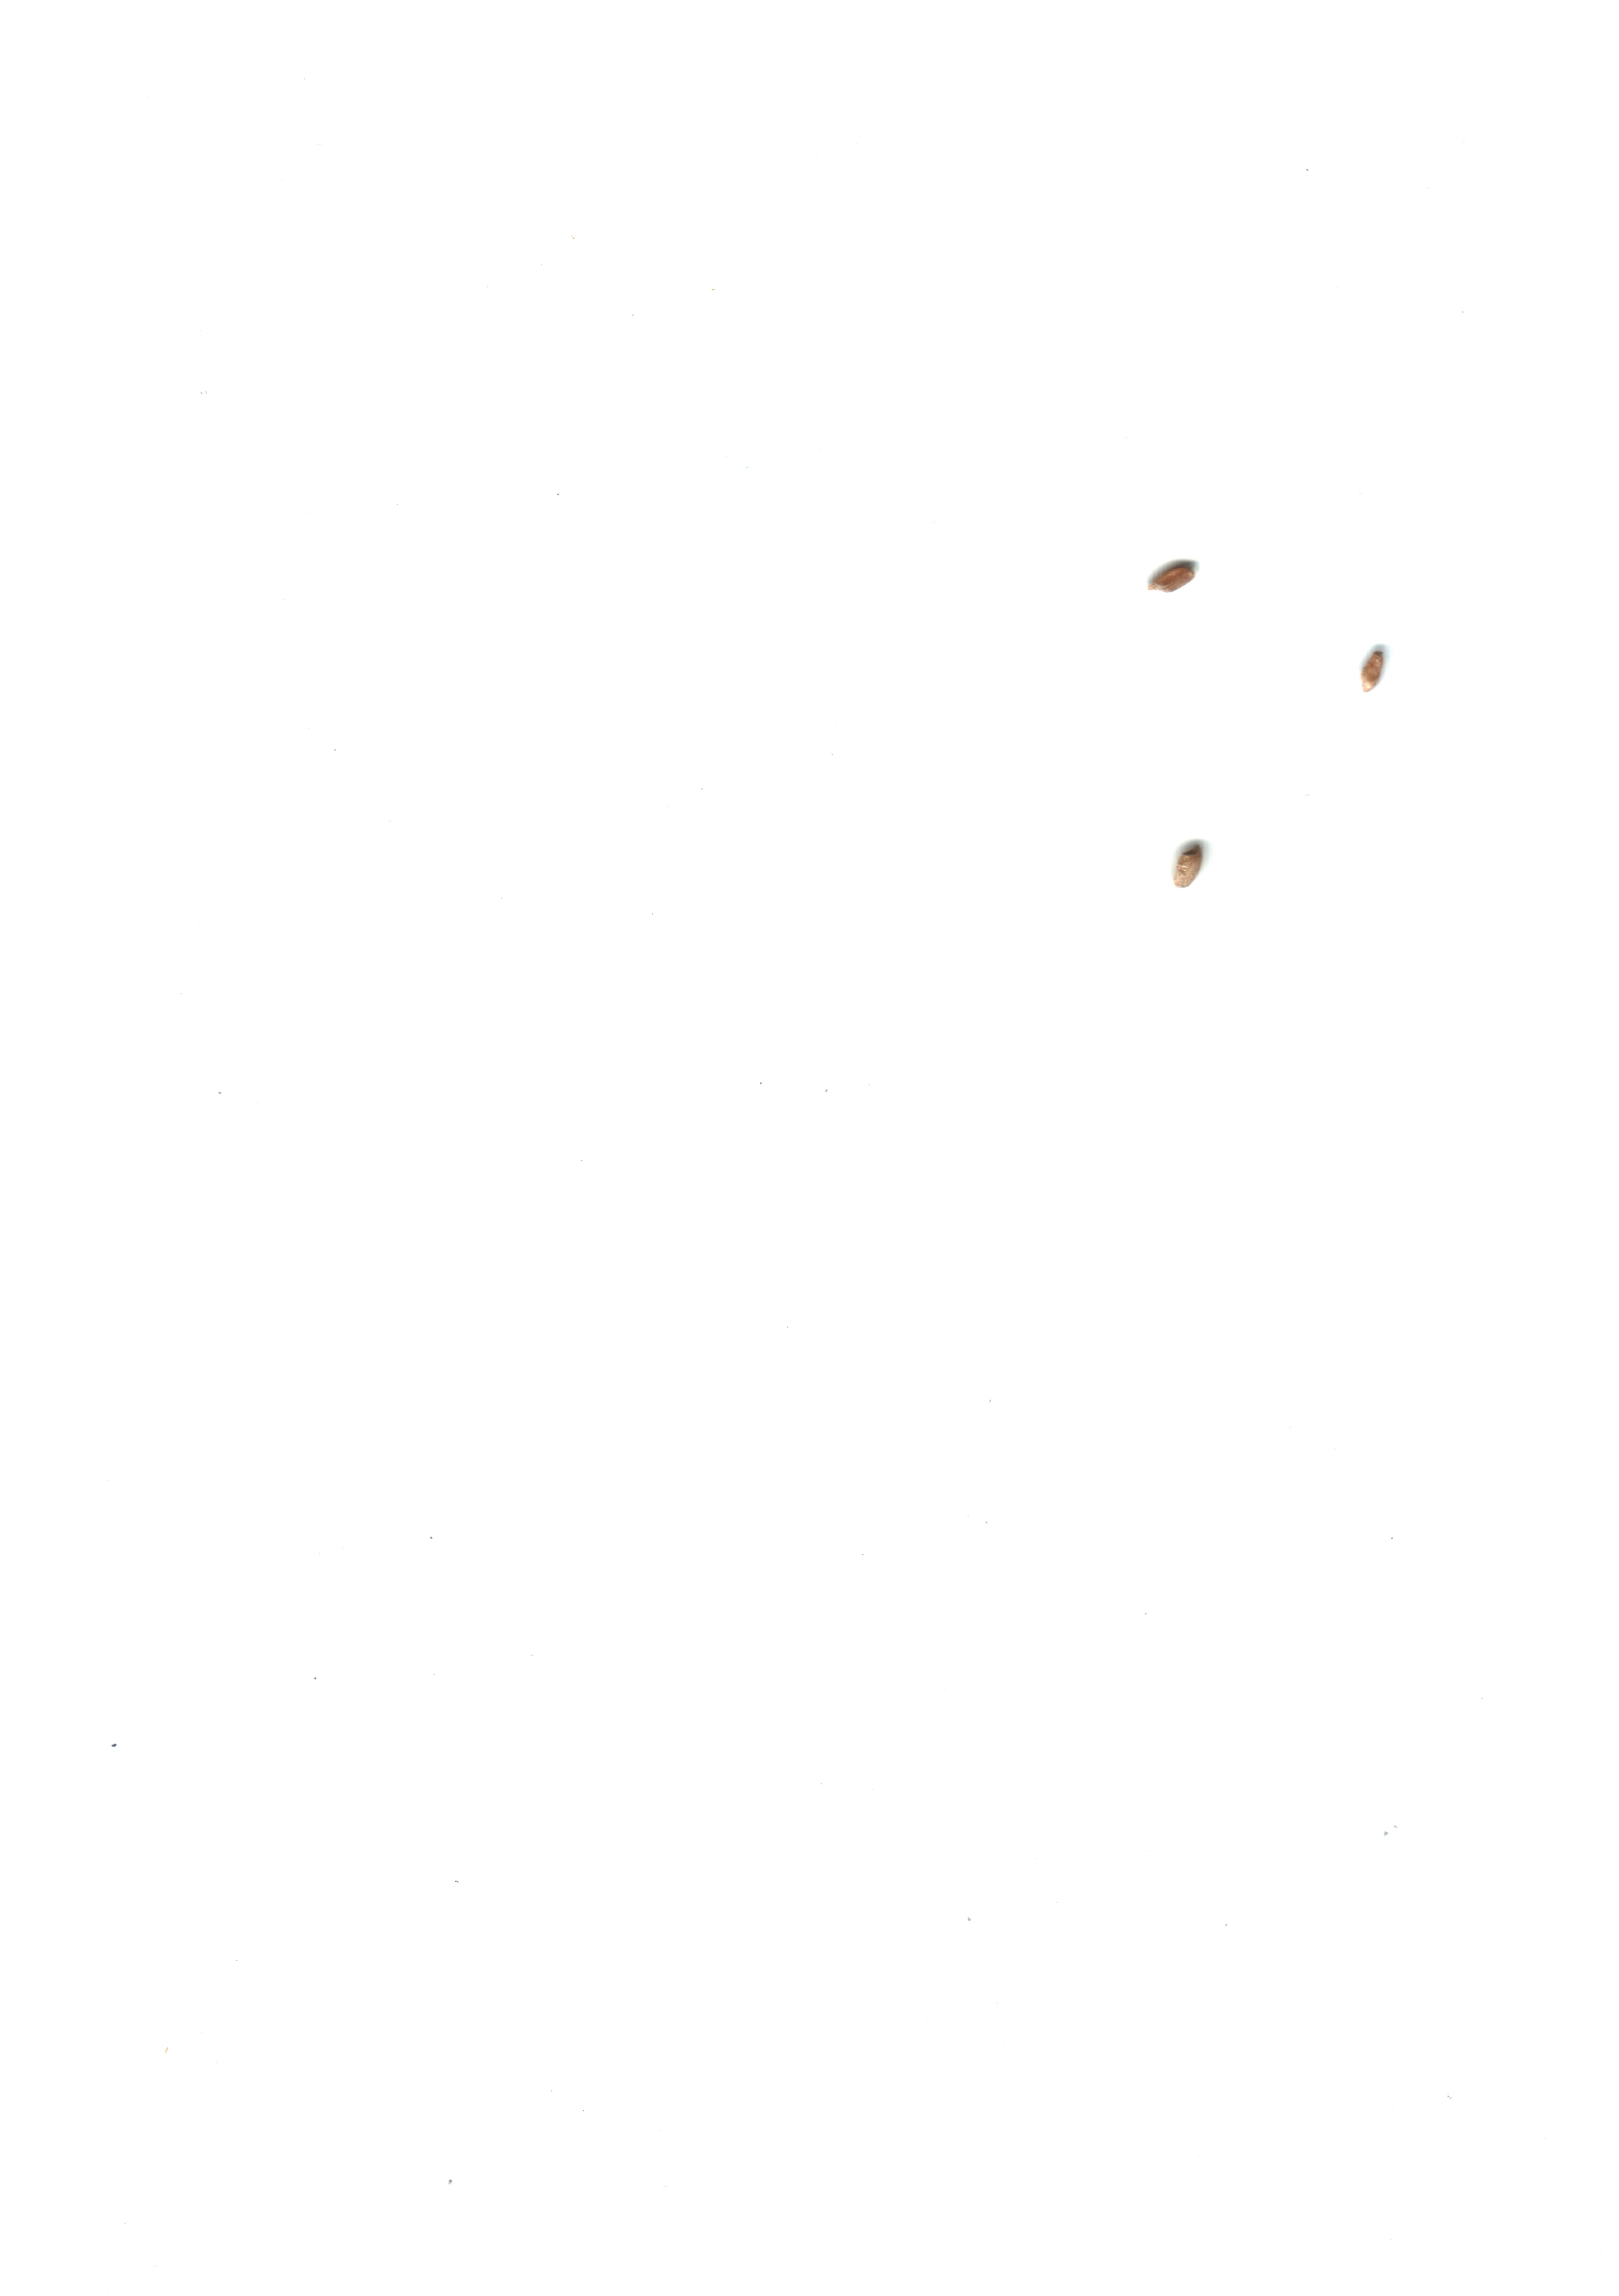grains_3mm: (1328, 633, 1423, 719), (1144, 826, 1237, 911), (1134, 538, 1227, 624)
